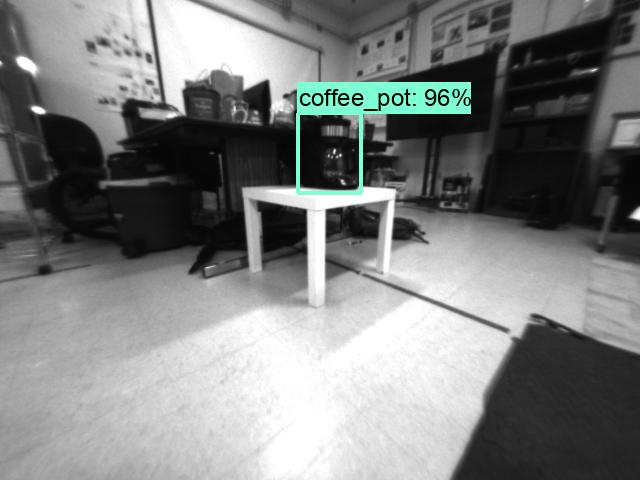coffee_pot: (301, 114, 363, 190)
